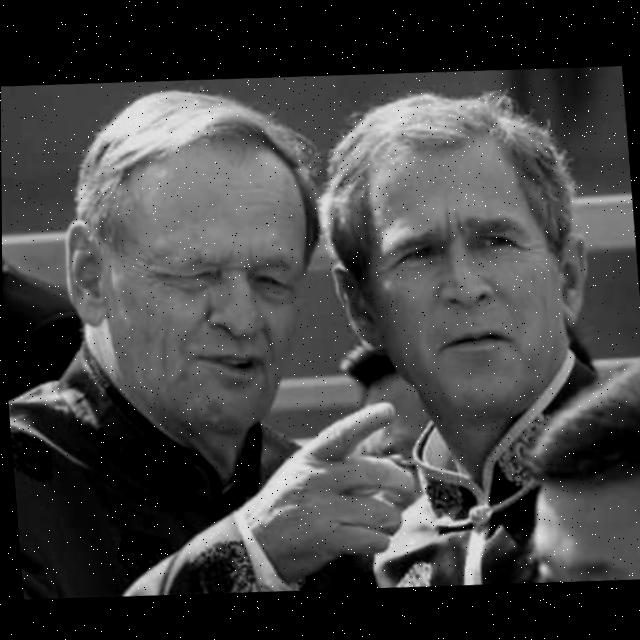face: (43, 96, 330, 439), (319, 135, 604, 424)
